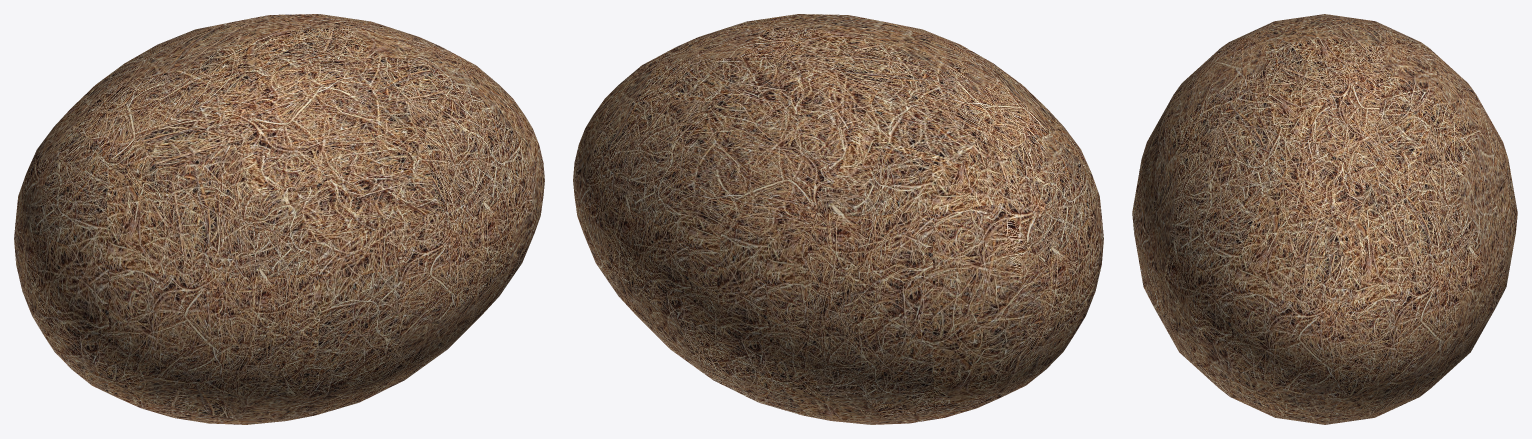
File: CocONuTFBX.fbx
3 views of the same model, side by side, from view 1: azimuth 30°, elevation 25°; view 2: azimuth 150°, elevation 25°; view 3: azimuth 270°, elevation 25° (orthographic). The views are drawn at different scales.
Visible parts, largest first — view 1: pSphere1; view 2: pSphere1; view 3: pSphere1.
Boxes of the visible parts, x1=… form: pSphere1: x1=14, y1=14, x2=544, y2=424; pSphere1: x1=573, y1=14, x2=1103, y2=424; pSphere1: x1=1132, y1=14, x2=1517, y2=424.
Bounding box in the file's own units: 6.17 × 4.46 × 4.46.
Materials: 1 (1 with a texture image).
